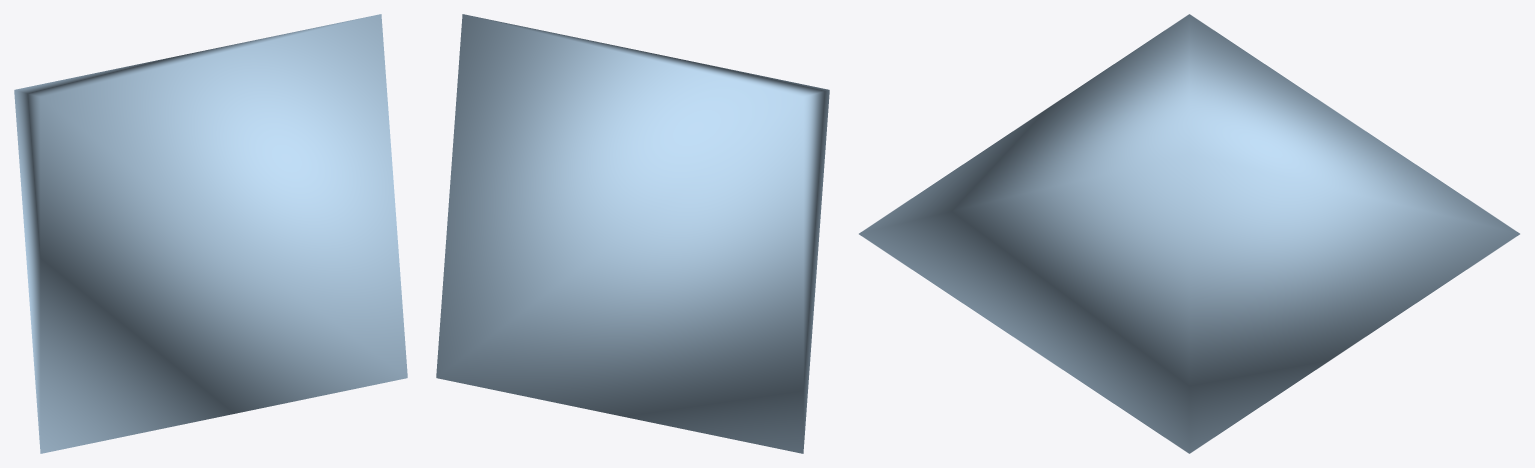
The model's file is rutile.glb.
3 renders of one model, left to right at view 1: azimuth 30°, elevation 25°; view 2: azimuth 150°, elevation 25°; view 3: azimuth 270°, elevation 25°, orthographic. The views are drawn at different scales.
Visible parts, largest first — view 1: rutile; view 2: rutile; view 3: rutile.
Boxes of the visible parts, <box> form: rutile: <box>14,14,407,453</box>; rutile: <box>436,14,829,453</box>; rutile: <box>859,14,1519,453</box>.
Bounding box in the file's own units: 1.7 × 1.7 × 3.39.
